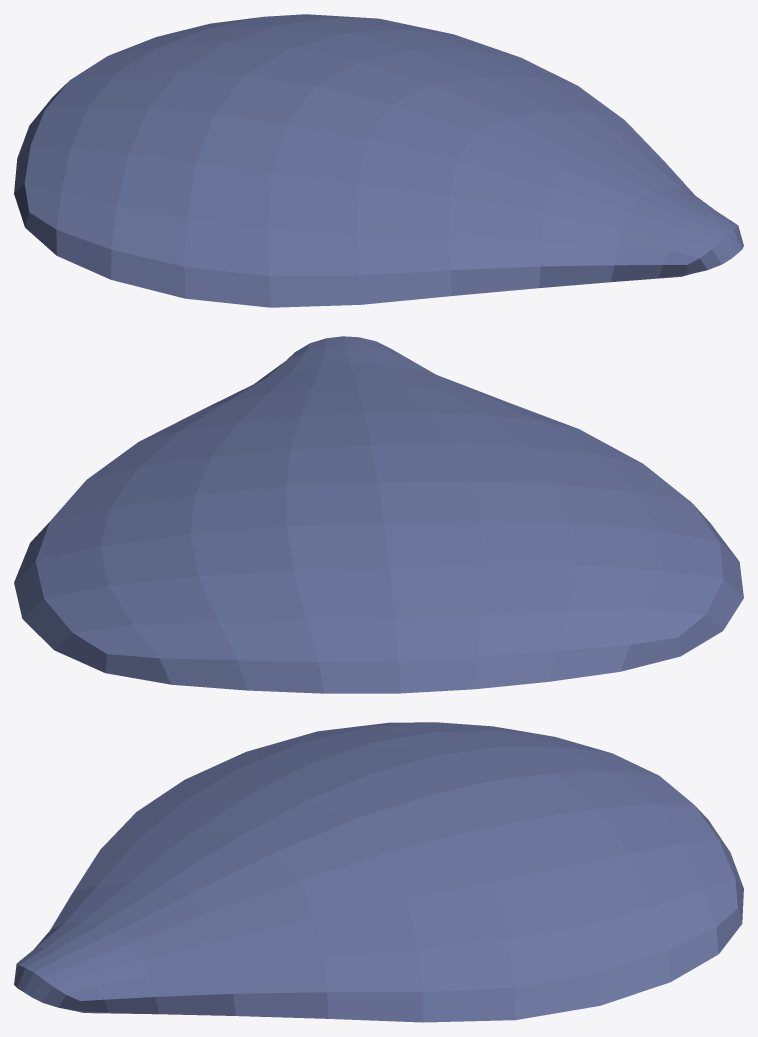
The model's file is shell3.fbx.
The picture shows the model from 3 angles, top to bottom: view 1: azimuth 30°, elevation 25°; view 2: azimuth 150°, elevation 25°; view 3: azimuth 270°, elevation 25°; orthographic projection. The views are drawn at different scales.
Parts seen in each view (by area): view 1: shell3; view 2: shell3; view 3: shell3.
Boxes of the visible parts, bbox=[...] form: shell3: bbox=[14, 14, 743, 307]; shell3: bbox=[14, 336, 743, 693]; shell3: bbox=[14, 722, 743, 1022].
Bounding box in the file's own units: 12.24 × 2.02 × 13.4.
